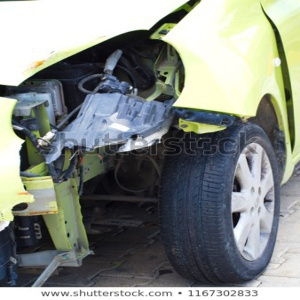bumper: (4, 157, 109, 266)
head_lights: (35, 35, 187, 128)
